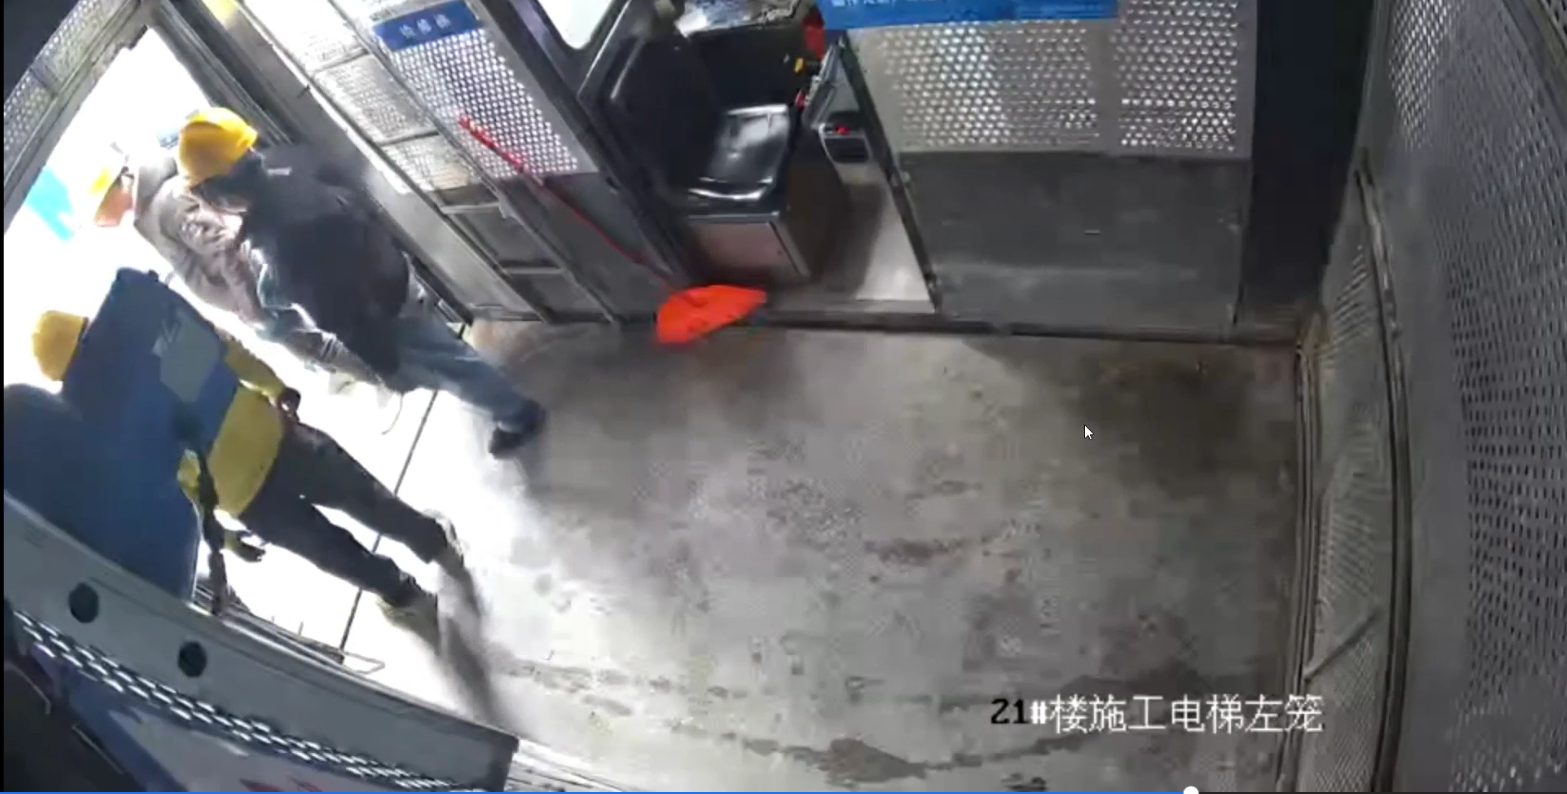person: (32, 307, 470, 615), (174, 109, 551, 457), (77, 164, 394, 387)
